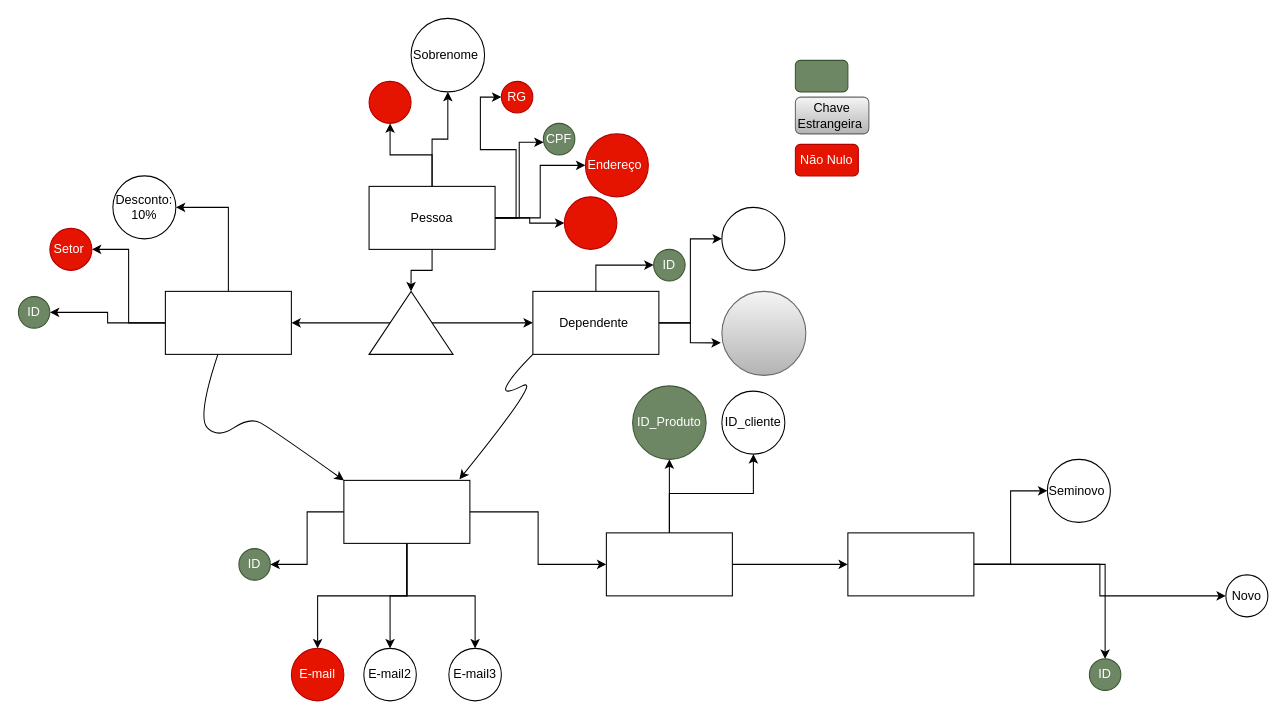
This 1286x719 diagram has some shape labels left out. Here are the shapes that lost their labels. From the top down, the centre of each, then its label:
At point (821, 75): "Chave Primaria".
At point (389, 101): "Nome".
At point (590, 222): "Telefone".
At point (753, 238): "Desconto: 5%".
At point (227, 322): "Funcionário".
At point (763, 332): "funcionário_id".
At point (406, 511): "Cliente".
At point (668, 564): "Pedido".
At point (910, 564): "Produto".
